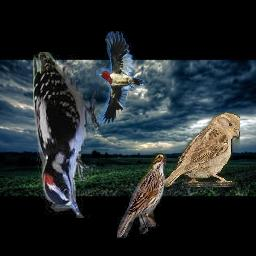Sparrow: (158, 113, 240, 188), (117, 154, 167, 239)
Woodpecker: (33, 52, 99, 218), (97, 32, 146, 125)
